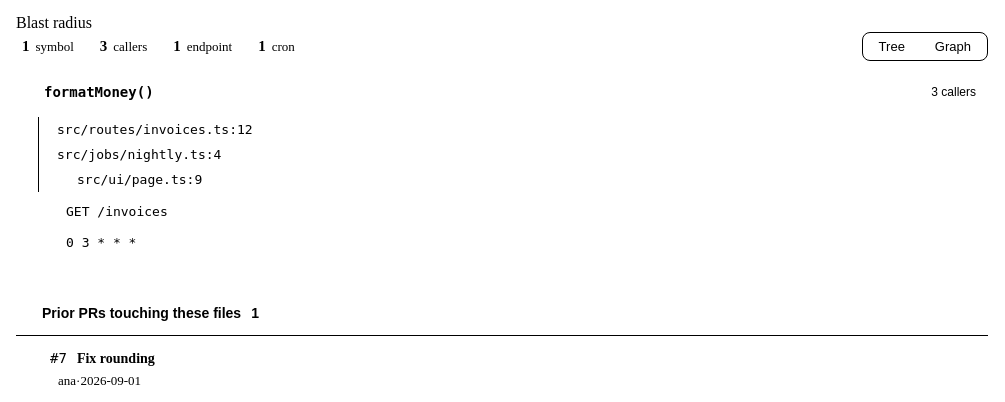
Test: BlastRadiusCard › switches to the SVG graph and back to the tree
This screenshot has width=1005, height=402.
Step 1. Click the button "graph" → (953, 46), box 921,35 -> 985,58
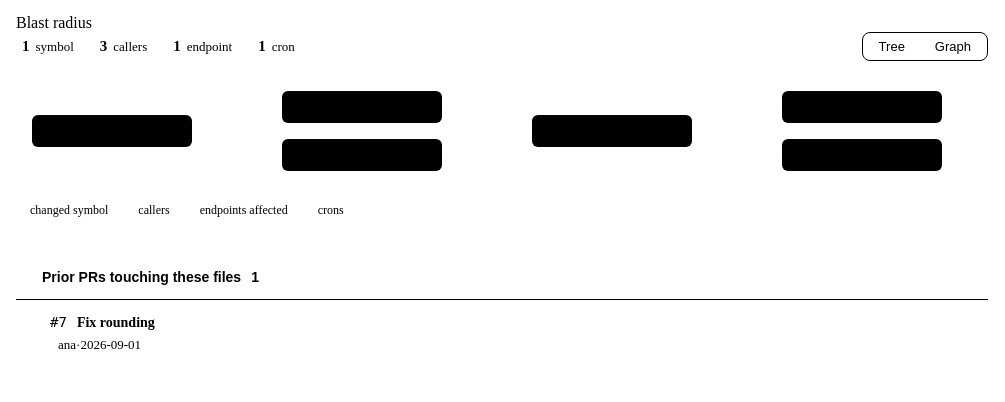
Now the picture named "Blast radius graph" is shown, box 16,75 -> 958,187
Now the text "changed symbol" is shown, box 30,203 -> 108,217
Now the text "endpoints affected" is shown, box 186,203 -> 288,218
Step 2. Click the button "tree" → (892, 46), box 865,35 -> 919,58
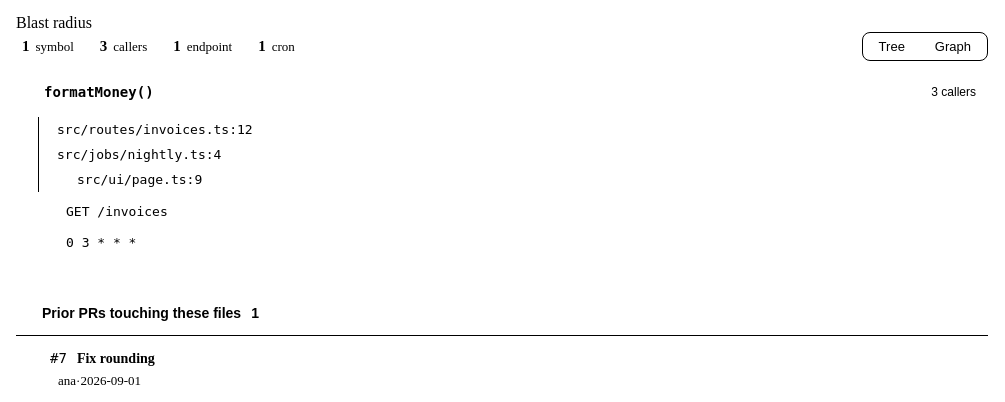
Now the link "src/routes/invoices.ts:12" is shown, box 57,122 -> 253,137
